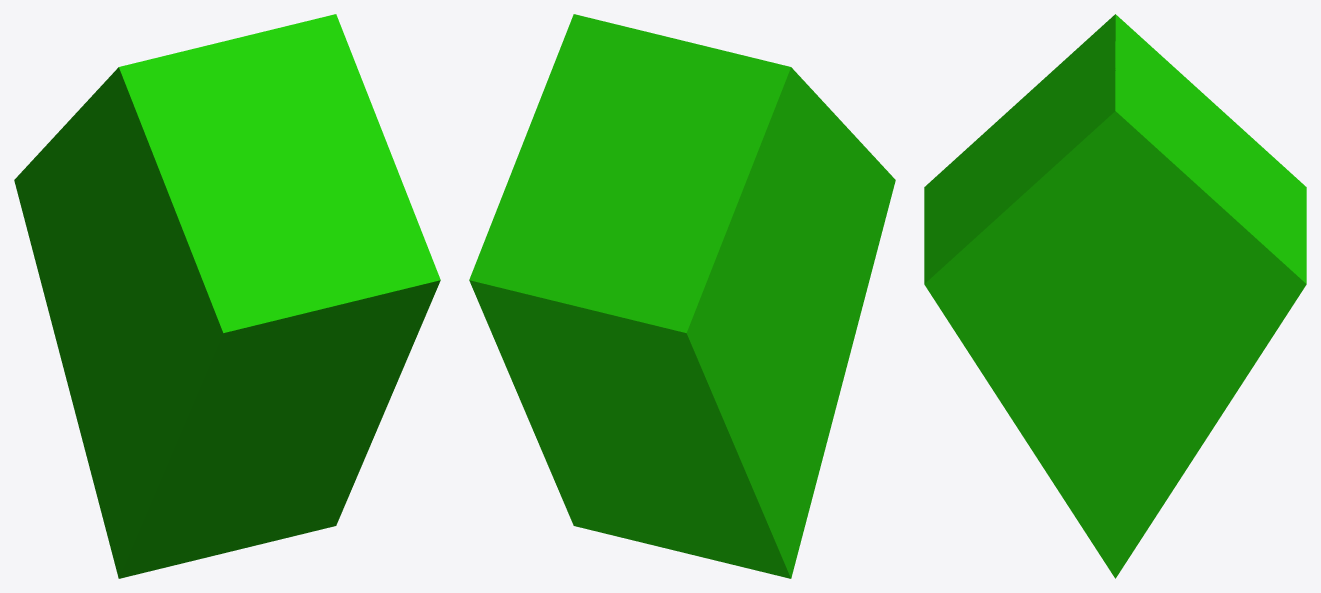
File: layang layang.fbx
The picture shows the model from 3 angles, left to right: view 1: azimuth 30°, elevation 25°; view 2: azimuth 150°, elevation 25°; view 3: azimuth 270°, elevation 25°; orthographic projection. The views are drawn at different scales.
Visible parts, largest first — view 1: Cube; view 2: Cube; view 3: Cube.
Part boxes in pixels (<box>): Cube: <box>14,14,440,578</box>; Cube: <box>469,14,895,578</box>; Cube: <box>924,14,1306,578</box>.
Bounding box in the file's own units: 120 × 270 × 200.
